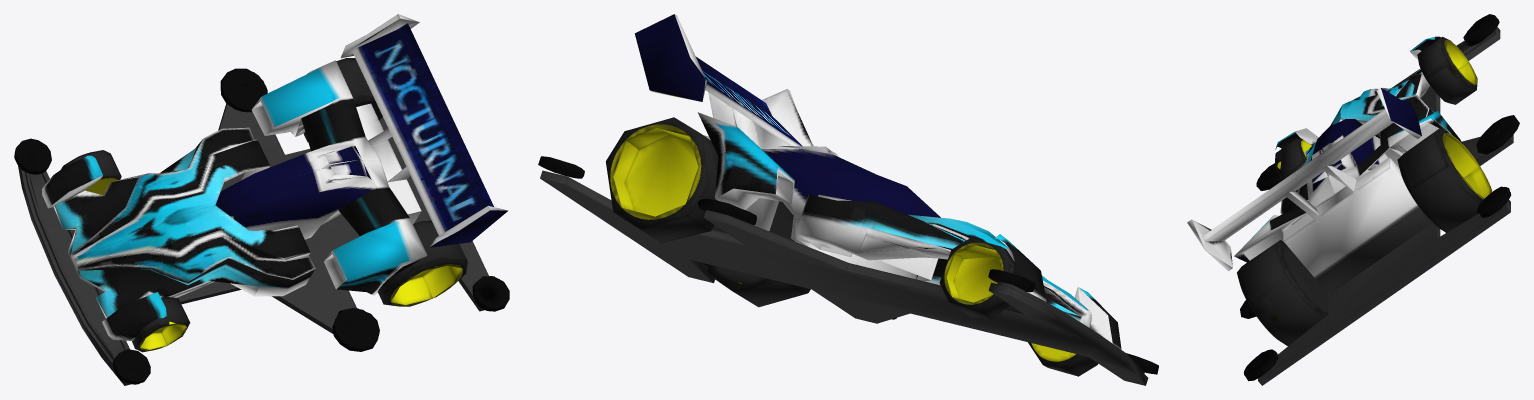
The model's file is ToyCar.glb.
3 renders of one model, left to right at view 1: azimuth 30°, elevation 25°; view 2: azimuth 150°, elevation 25°; view 3: azimuth 270°, elevation 25°, orthographic. The views are drawn at different scales.
Parts seen in each view (by area): view 1: 4WD_1.003(Clone)_Quality_81; view 2: 4WD_1.003(Clone)_Quality_81; view 3: 4WD_1.003(Clone)_Quality_81.
Boxes of the visible parts, bbox=[...] form: 4WD_1.003(Clone)_Quality_81: bbox=[14, 14, 509, 385]; 4WD_1.003(Clone)_Quality_81: bbox=[538, 14, 1158, 385]; 4WD_1.003(Clone)_Quality_81: bbox=[1187, 14, 1519, 385].
Size of the model in its own units: 2.57 by 1.65 by 1.79.
3 materials, 3 textured.
